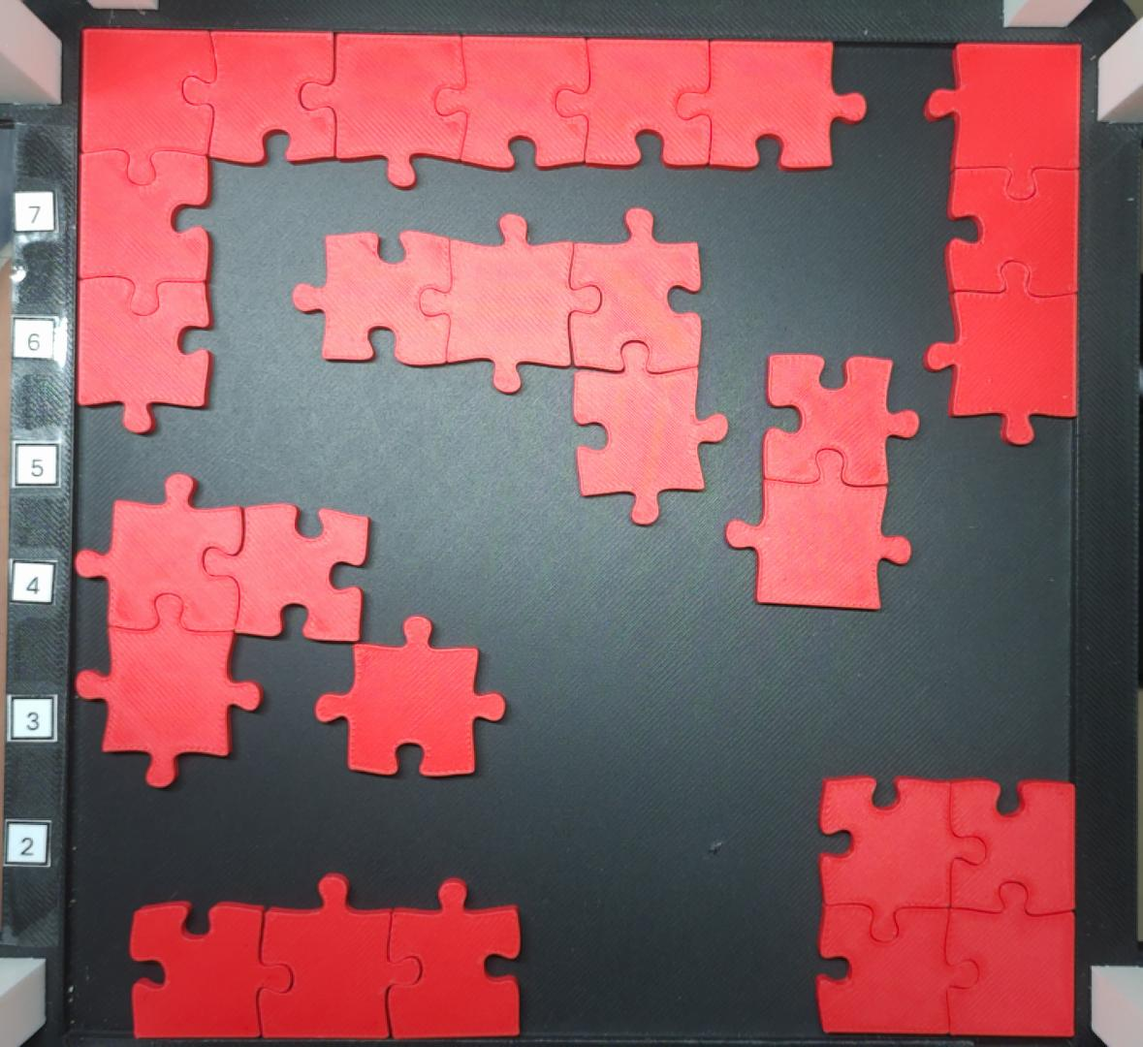p_1: (311, 614, 509, 779)
p_2: (723, 352, 920, 613)
p_3: (70, 471, 371, 789), (127, 871, 524, 1041), (922, 42, 1081, 447)
p_4: (290, 206, 731, 528), (813, 776, 1077, 1039)
p_m: (74, 24, 870, 435)
